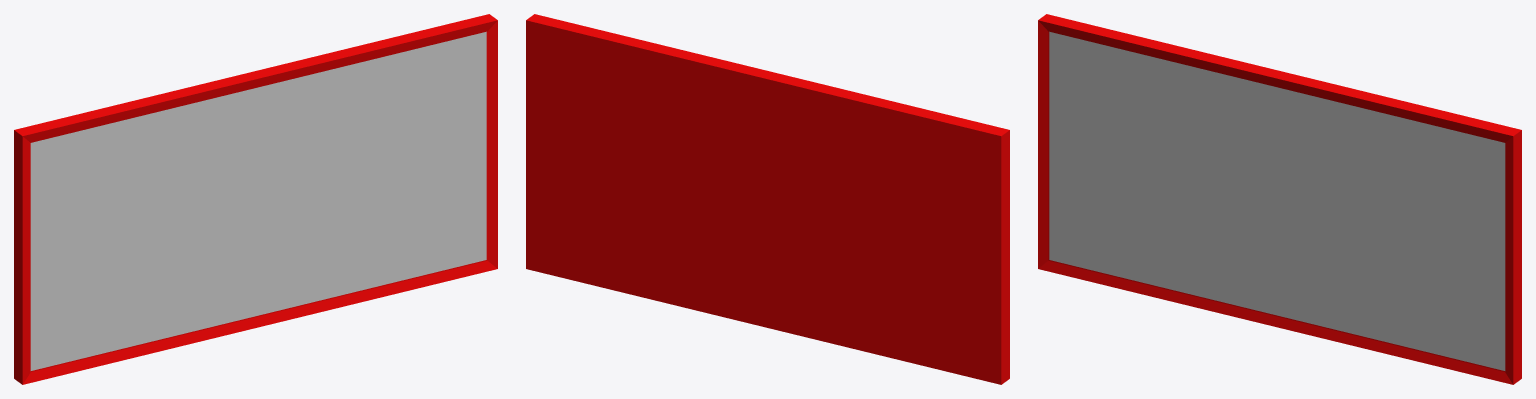
The model's file is Billboard.FBX.
3 renders of one model, left to right at view 1: azimuth 30°, elevation 25°; view 2: azimuth 150°, elevation 25°; view 3: azimuth 330°, elevation 25°, orthographic.
Parts seen in each view (by area): view 1: Billboard; view 2: Billboard; view 3: Billboard.
Part boxes in pixels (left/top/right/bottom): Billboard: left=14, top=14, right=497, bottom=384; Billboard: left=526, top=14, right=1009, bottom=384; Billboard: left=1038, top=14, right=1521, bottom=384.
Size of the model in its own units: 5.12 by 2.56 by 0.16.
